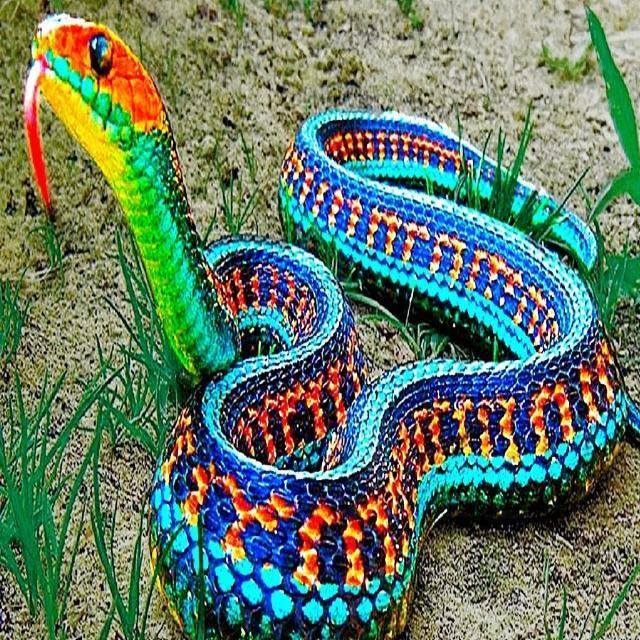Snake: (14, 0, 604, 640)
